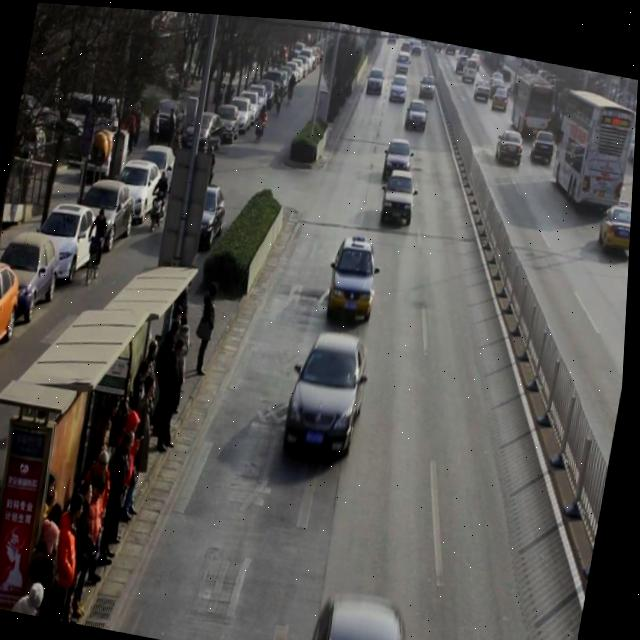car: (283, 320, 377, 458), (327, 230, 386, 321), (381, 161, 421, 223), (598, 195, 633, 250), (382, 131, 416, 183), (496, 121, 527, 160), (531, 120, 559, 158), (404, 91, 431, 128), (389, 67, 410, 99)
van: (547, 79, 637, 210), (506, 62, 559, 133)
